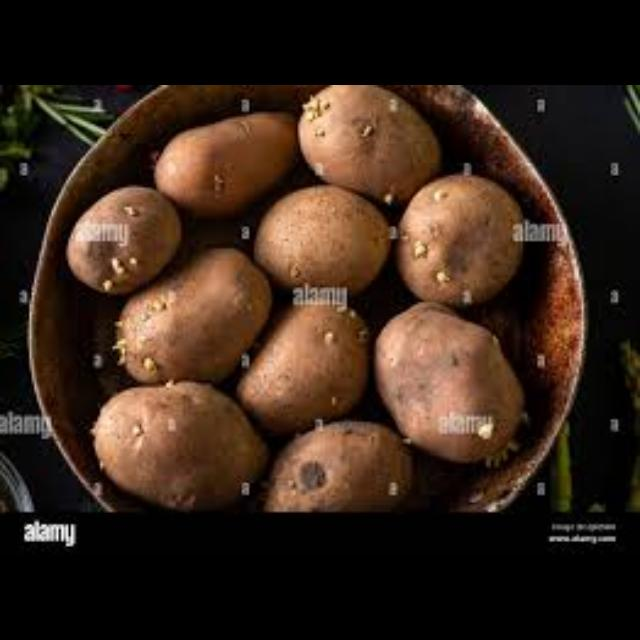Sprouted potato: (352, 281, 530, 475), (70, 372, 268, 508), (101, 250, 275, 384), (221, 292, 377, 432), (230, 178, 410, 292), (147, 101, 323, 217), (402, 169, 526, 309), (292, 86, 450, 192), (255, 409, 408, 507), (66, 178, 186, 302)
